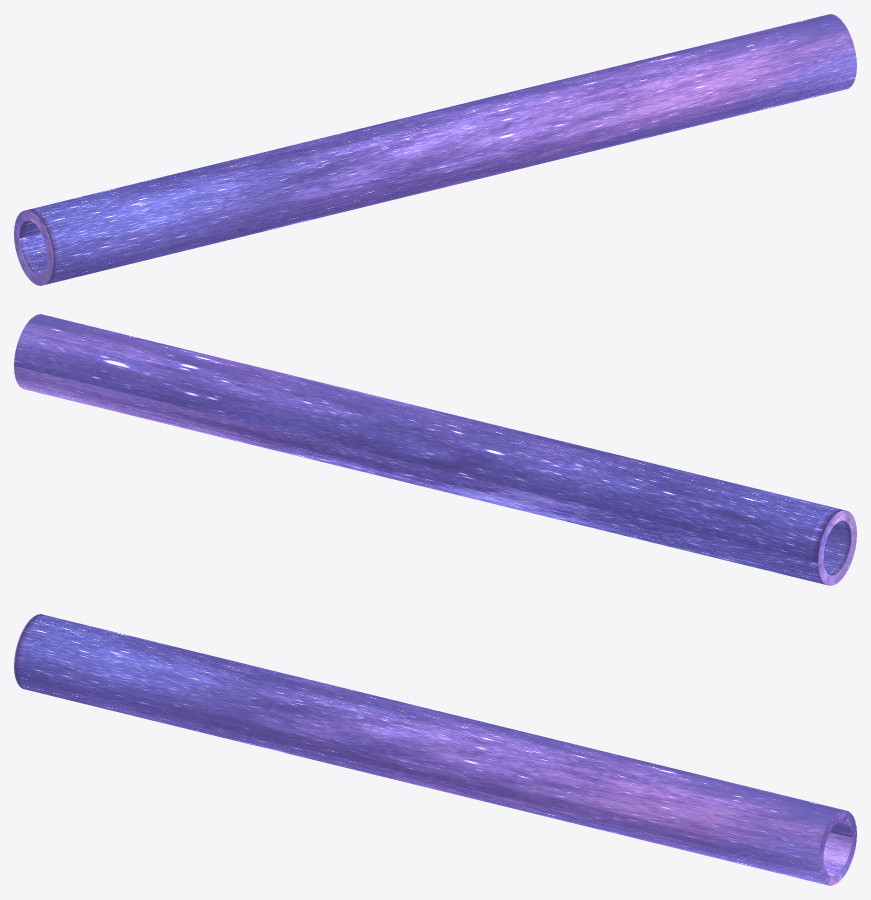
The model's file is tunnel_glow.glb.
The picture shows the model from 3 angles, top to bottom: view 1: azimuth 30°, elevation 25°; view 2: azimuth 150°, elevation 25°; view 3: azimuth 330°, elevation 25°; orthographic projection.
Visible parts, largest first — view 1: 실린더; view 2: 실린더; view 3: 실린더.
Boxes of the visible parts, x1,y1,x2,y2 form: 실린더: (14, 14, 856, 285); 실린더: (14, 314, 856, 585); 실린더: (14, 614, 856, 885).
Size of the model in its own units: 24 by 2 by 2.
1 material, 1 textured.
